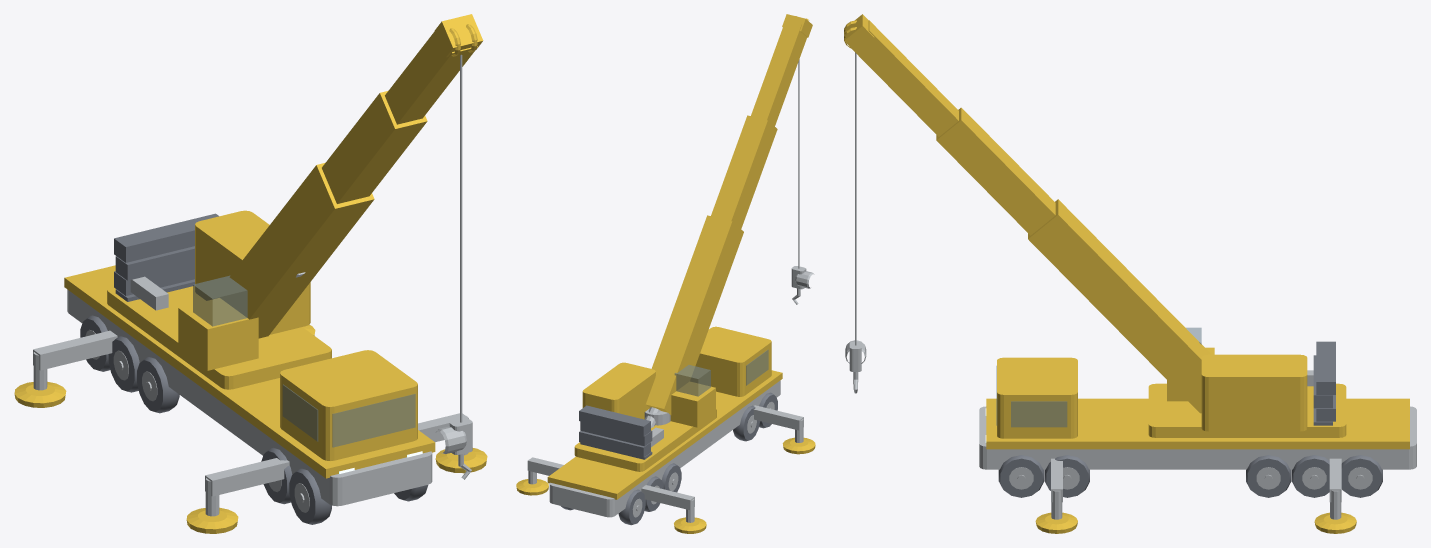
3 views of the same model, side by side, from view 1: azimuth 30°, elevation 25°; view 2: azimuth 150°, elevation 25°; view 3: azimuth 270°, elevation 25° (orthographic). The views are drawn at different scales.
Visible parts, largest first — view 1: heavy-lift-crane, boom, hook, wheel-a-left, wheel-c-left, wheel-d-left, wheel-b-left, wheel-e-left; view 2: heavy-lift-crane, boom, hook, wheel-e-left, wheel-b-left; view 3: heavy-lift-crane, boom, hook, wheel-a-right, wheel-c-right, wheel-e-right, wheel-d-right, wheel-b-right.
Boxes of the visible parts, x1,y1,x2,y2 form: heavy-lift-crane: (14,210,487,533); boom: (212,14,483,338); hook: (436,54,472,479); wheel-a-left: (289,468,331,524); wheel-c-left: (137,357,179,413); wheel-d-left: (108,336,139,392); wheel-b-left: (261,447,292,504); wheel-e-left: (80,315,110,371); heavy-lift-crane: (516,326,815,533); boom: (646,14,812,414); hook: (791,59,814,304); wheel-e-left: (618,489,645,525); wheel-b-left: (733,405,760,441); heavy-lift-crane: (979,327,1416,533); boom: (844,14,1211,413); hook: (845,52,866,393); wheel-a-right: (998,455,1044,497); wheel-c-right: (1246,455,1291,497); wheel-e-right: (1341,455,1382,497); wheel-d-right: (1291,455,1329,497); wheel-b-right: (1044,455,1089,497).
Bounding box in the file's own units: 7.8 × 14.29 × 16.23.
